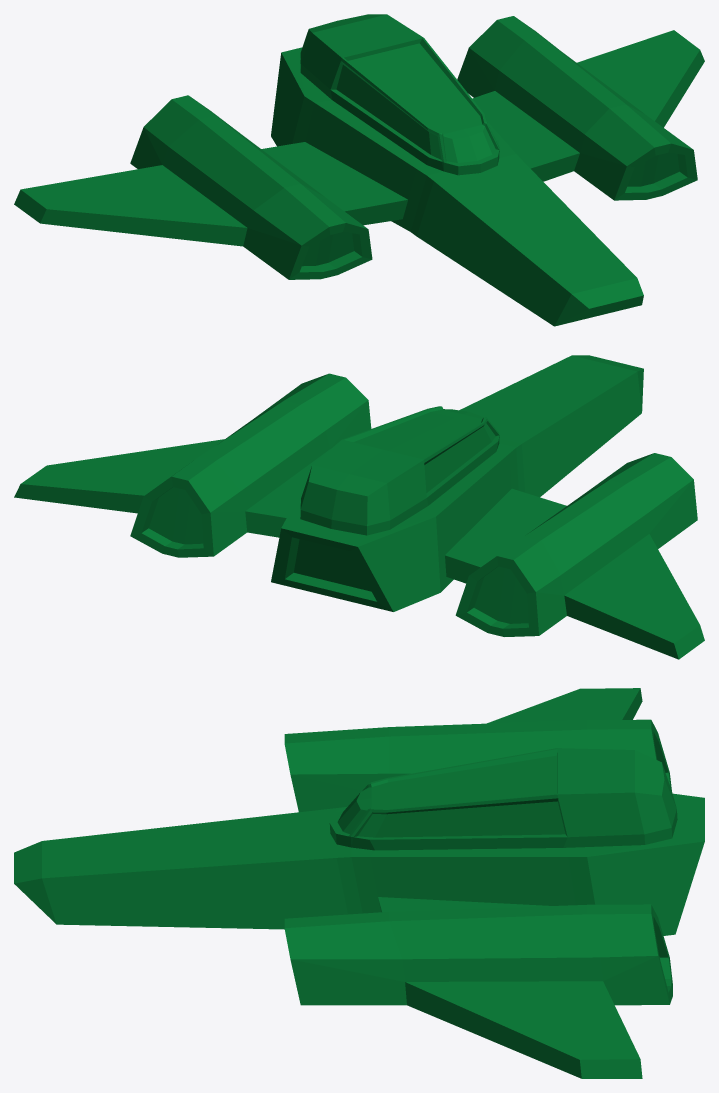
The model's file is Ship4.FBX.
3 renders of one model, top to bottom at view 1: azimuth 30°, elevation 25°; view 2: azimuth 150°, elevation 25°; view 3: azimuth 270°, elevation 25°, orthographic. The views are drawn at different scales.
Parts seen in each view (by area): view 1: Box001; view 2: Box001; view 3: Box001.
Boxes of the visible parts, x1,y1,x2,y2 form: Box001: [14, 14, 704, 326]; Box001: [14, 355, 704, 659]; Box001: [14, 688, 704, 1078].
Bounding box in the file's own units: 303 × 48.14 × 234.
